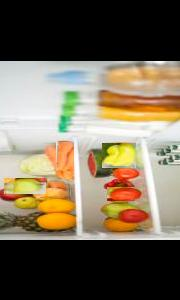Manzana: (4, 176, 46, 192)
Pimiento: (102, 142, 136, 167)
Tomate: (107, 186, 143, 200), (106, 167, 140, 179)
Zanahoria: (45, 144, 73, 181), (56, 139, 74, 170)
